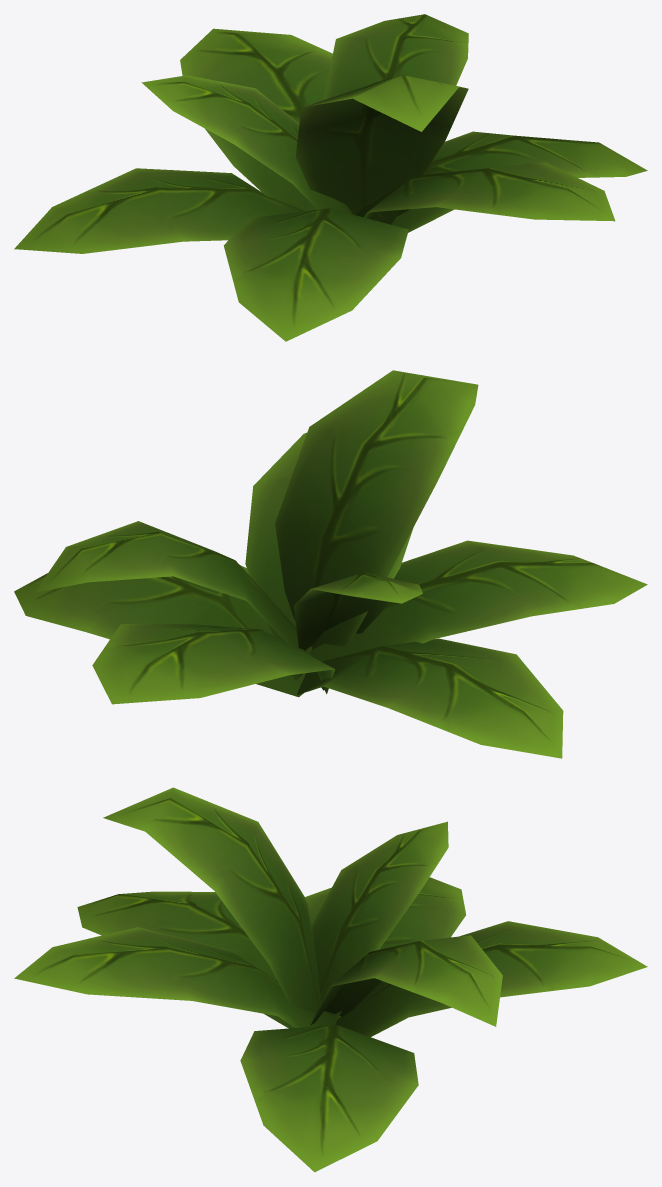
The model's file is Bush_2.FBX.
3 views of the same model, one above another, from view 1: azimuth 30°, elevation 25°; view 2: azimuth 150°, elevation 25°; view 3: azimuth 270°, elevation 25° (orthographic). The views are drawn at different scales.
Visible parts, largest first — view 1: Bush_2; view 2: Bush_2; view 3: Bush_2.
Boxes of the visible parts, x1,y1,x2,y2 form: Bush_2: (14,14,647,341); Bush_2: (14,370,647,758); Bush_2: (14,787,647,1172).
Size of what is drawn, in the model's own units: 181 by 176 by 73.2.
